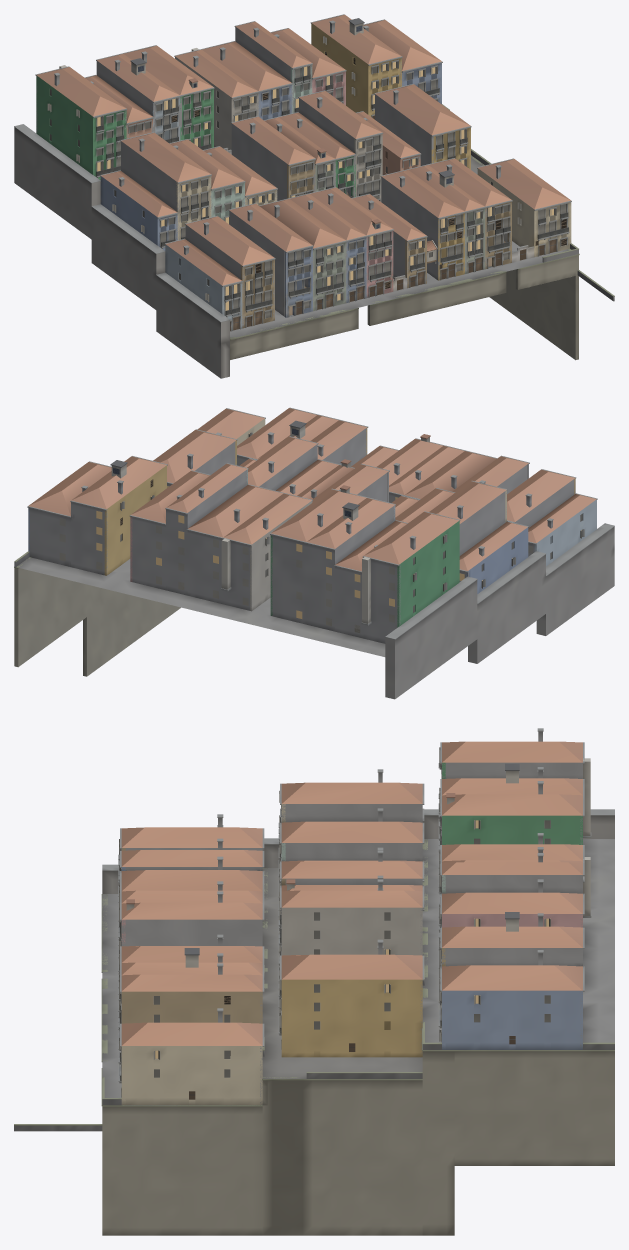
The model's file is stairs_hi.glb.
3 views of the same model, one above another, from view 1: azimuth 30°, elevation 25°; view 2: azimuth 150°, elevation 25°; view 3: azimuth 270°, elevation 25° (orthographic). The views are drawn at different scales.
Parts seen in each view (by area): view 1: stairs_10_1, stairs_rampart_7, stairs_9_2, stairs_10_11, stairs_8_13, stairs_9_11, stairs_8_9, stairs_rampart_5, stairs_8_2, stairs_8_3, stairs_rampart_6, stairs_9_5 (+27 smaller); view 2: stairs_10_1, stairs_10_11, stairs_rampart_7, ground_stairs_10, stairs_10_4, stairs_10_3, stairs_10_6, stairs_east_11, stairs_rampart_6, stairs_rampart_5, stairs_10_7, stairs_10_8 (+24 smaller); view 3: stairs_east_10, stairs_east_9, stairs_east_11, stairs_9_11, stairs_10_12, stairs_8_13, stairs_9_8, ground_stairs_10, stairs_10_4, stairs_8_11, stairs_8_6, stairs_east_12 (+21 smaller).
Boxes of the visible parts, x1,y1,x2,y2 form: stairs_10_1: (35,65,127,179); stairs_rampart_7: (14,124,100,239); stairs_9_2: (120,132,211,240); stairs_10_11: (310,14,402,119); stairs_8_13: (477,158,571,257); stairs_9_11: (374,84,471,169); stairs_8_9: (380,169,465,280); stairs_rampart_5: (156,272,229,378); stairs_8_2: (184,216,275,328); stairs_8_3: (228,203,313,317); stairs_rampart_6: (91,204,165,309); stairs_9_5: (231,116,315,200); stairs_10_1: (361,511,460,643); stairs_10_11: (70,456,167,575); stairs_rampart_7: (385,576,477,699); ground_stairs_10: (16,557,385,656); stairs_10_4: (270,485,366,624); stairs_10_3: (305,497,395,631); stairs_10_6: (221,493,312,611); stairs_east_11: (14,557,86,667); stairs_rampart_6: (468,551,545,663); stairs_rampart_5: (536,523,614,635); stairs_10_7: (186,484,283,604); stairs_10_8: (165,463,248,595); stairs_east_10: (262,1077,422,1235); stairs_east_9: (102,1105,262,1235); stairs_east_11: (454,1050,614,1165); stairs_9_11: (278,939,424,1057); stairs_10_12: (438,950,584,1049); stairs_8_13: (118,1008,264,1104); stairs_9_8: (278,879,424,976); ground_stairs_10: (422,839,614,1042); stairs_10_4: (438,781,584,882); stairs_8_11: (118,963,264,1044); stairs_8_6: (118,891,264,974); stairs_east_12: (422,1050,454,1235).
Bounding box in the file's own units: 80.35 × 52.09 × 93.82.
